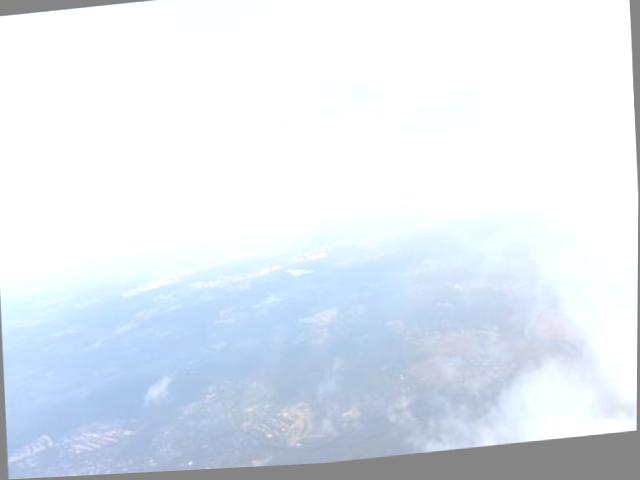uav: (283, 265, 314, 283)
